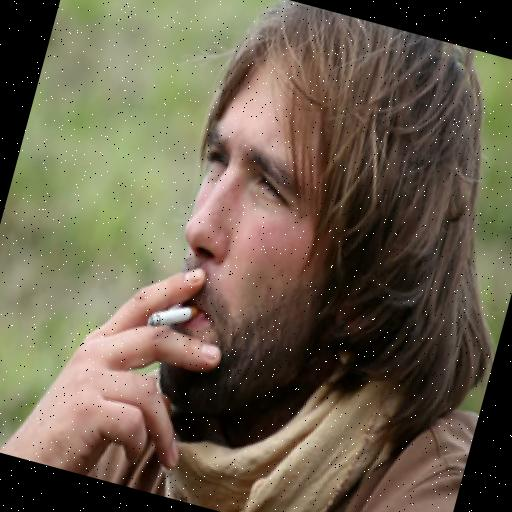terdeteksi merokok: (98, 134, 288, 383)
